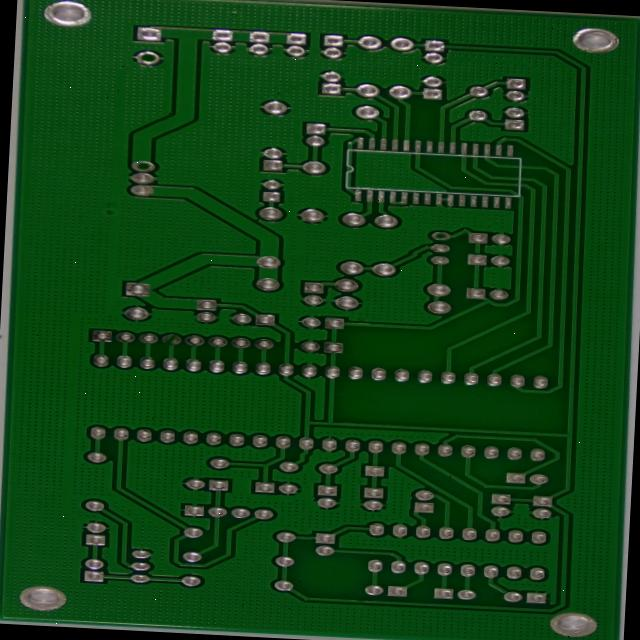missing_hole: (150, 51, 189, 70), (181, 346, 214, 363), (146, 166, 179, 182), (497, 243, 523, 255)
